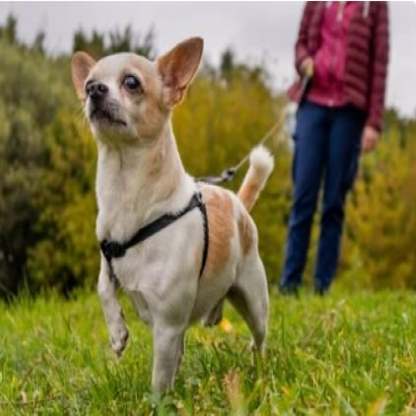chihuahua: (67, 31, 280, 396)
